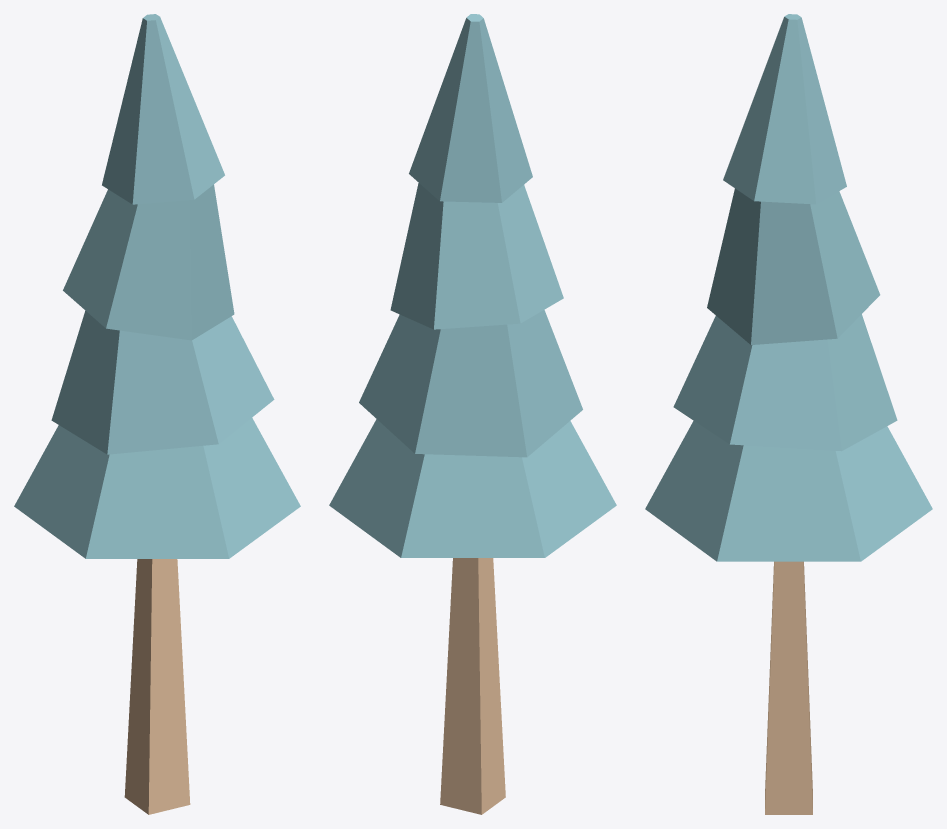
Rendered from tree_pine_short.glb.
The picture shows the model from 3 angles, left to right: view 1: azimuth 30°, elevation 25°; view 2: azimuth 150°, elevation 25°; view 3: azimuth 270°, elevation 25°; orthographic projection.
Parts seen in each view (by area): view 1: tree_pine_short; view 2: tree_pine_short; view 3: tree_pine_short.
Boxes of the visible parts, box(x1,y1,x2,y2) form: tree_pine_short: box(14, 14, 300, 814); tree_pine_short: box(329, 14, 616, 814); tree_pine_short: box(645, 14, 932, 814).
Bounding box in the file's own units: 0.4804 × 1.67 × 0.5547.
